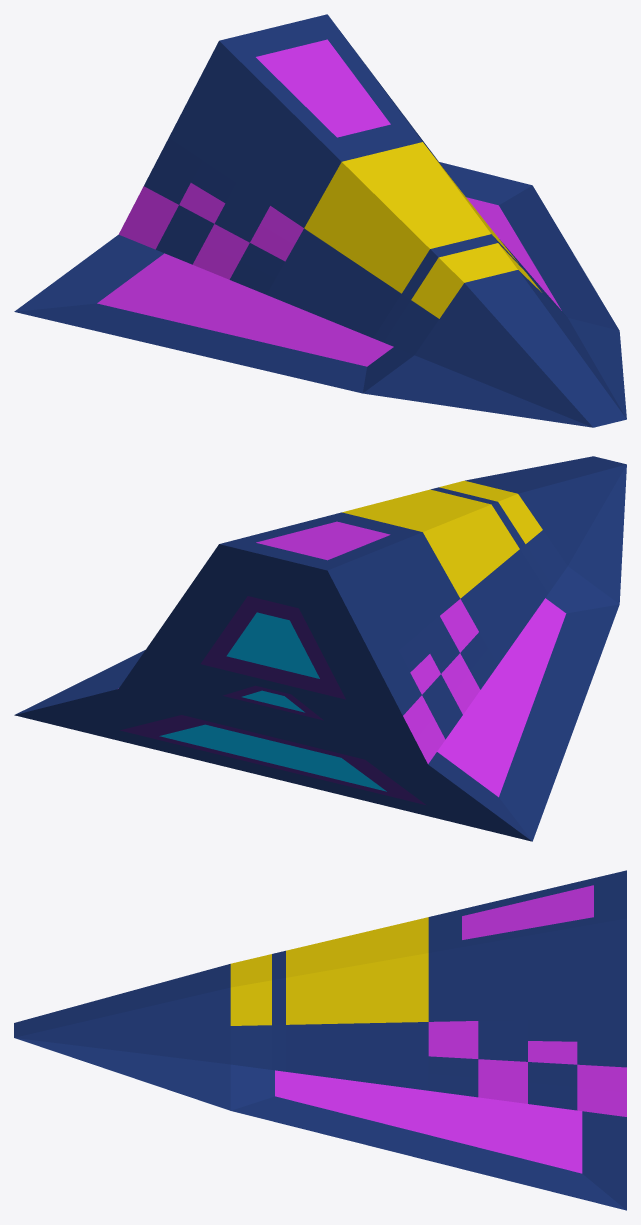
Rendered from newship.gltf.
3 views of the same model, one above another, from view 1: azimuth 30°, elevation 25°; view 2: azimuth 150°, elevation 25°; view 3: azimuth 270°, elevation 25° (orthographic). The views are drawn at different scales.
Visible parts, largest first — view 1: Ship; view 2: Ship; view 3: Ship.
Boxes of the visible parts, x1=… form: Ship: x1=14, y1=14, x2=626, y2=427; Ship: x1=14, y1=456, x2=626, y2=841; Ship: x1=14, y1=870, x2=626, y2=1210.
Bounding box in the file's own units: 0.7338 × 0.299 × 0.8257.
